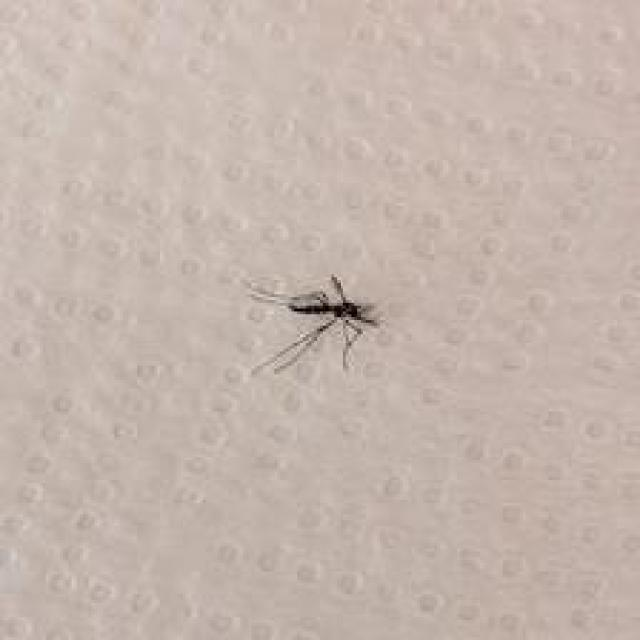Aedes albopictus: (246, 272, 383, 377)
